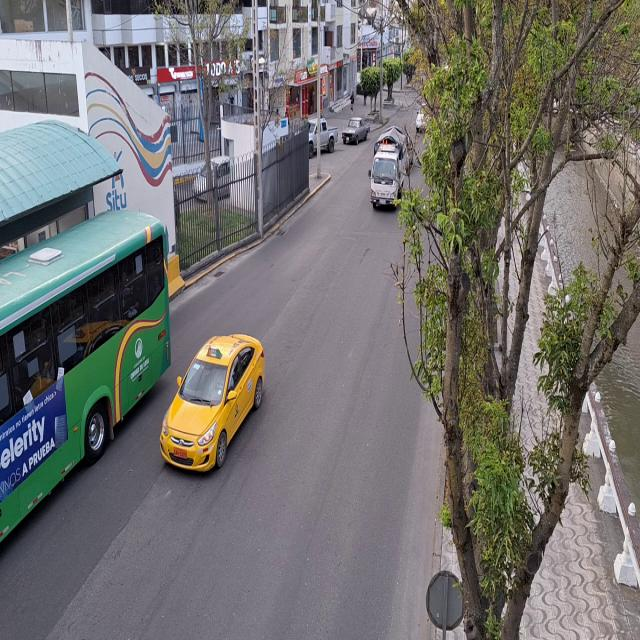BUS: (0, 208, 170, 549)
CMT: (342, 114, 371, 144)
SED: (159, 332, 265, 471)
TRUCK: (371, 144, 402, 210)
